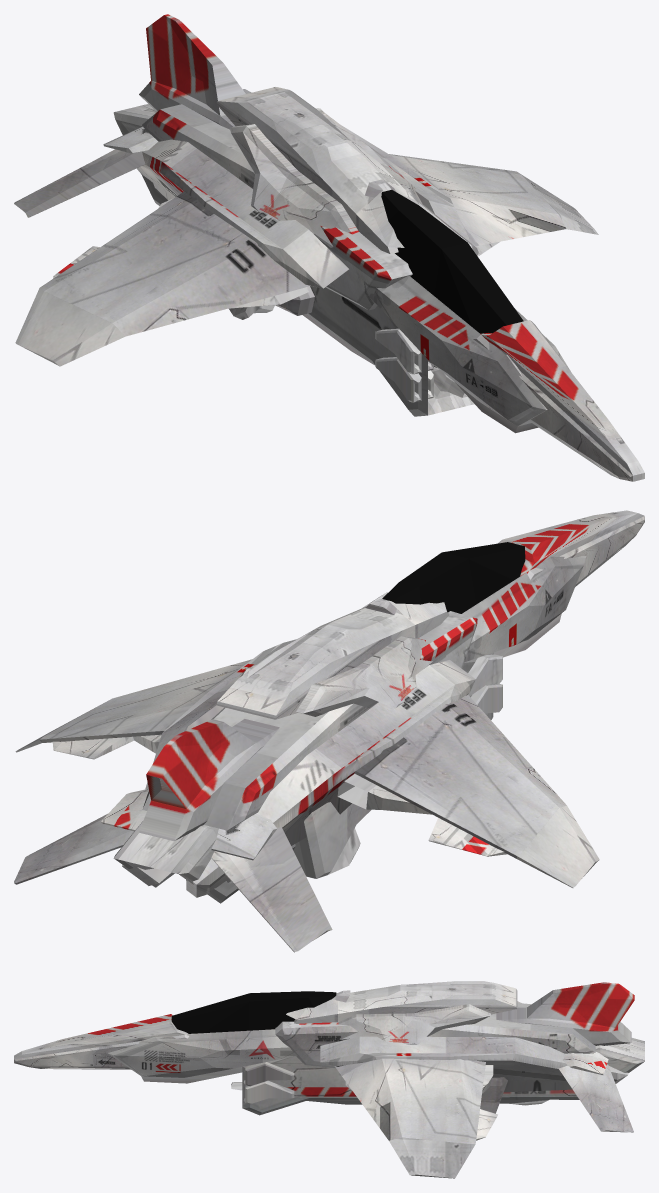
File: omega_fighter2.FBX
3 renders of one model, top to bottom at view 1: azimuth 30°, elevation 25°; view 2: azimuth 150°, elevation 25°; view 3: azimuth 270°, elevation 25°, orthographic. The views are drawn at different scales.
Visible parts, largest first — view 1: polySurface28; view 2: polySurface28; view 3: polySurface28.
Boxes of the visible parts, x1,y1,x2,y2 form: polySurface28: [14, 14, 644, 481]; polySurface28: [14, 510, 644, 952]; polySurface28: [14, 981, 644, 1178].
Size of the model in its own units: 301 by 103 by 460.
